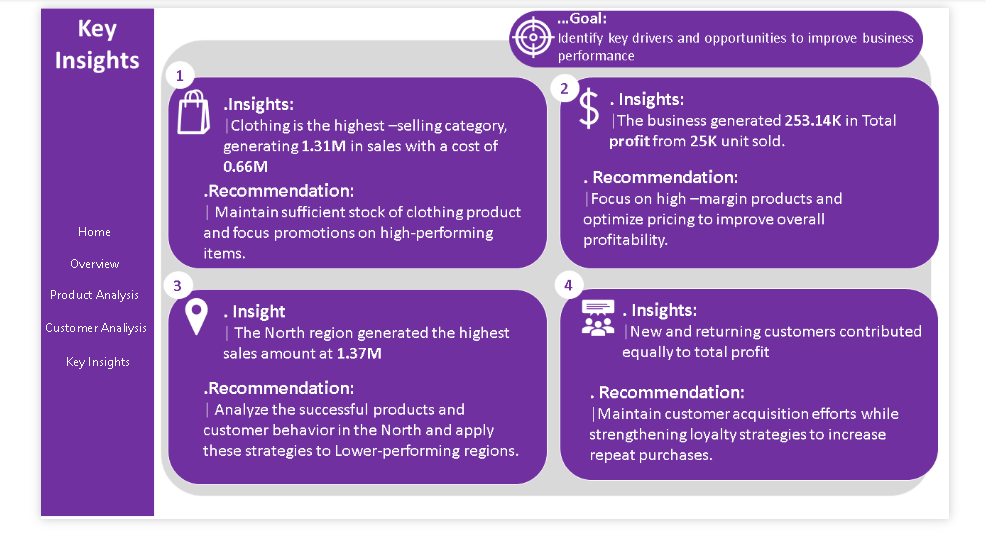

The page's visual inventory and layout, read from the dashboard file:
{"tool":"powerbi","page":{"name":"Key Insights","canvas":[1280,720],"ordinal":4},"visuals":[{"type":"actionButton","box":[17.5,296.2,117.5,37.5],"z":0},{"type":"actionButton","box":[17.5,341.2,116.9,38.1],"z":1000},{"type":"actionButton","box":[7.5,385,136.2,38.8],"z":2000},{"type":"actionButton","box":[0,431.2,155,38.8],"z":3000},{"type":"actionButton","box":[3.3,478.3,155,38.3],"z":4000}]}

Visuals, with their boxes on the page's 1280x720 design canvas (x1, y1, x2, y2). These are canvas units, not pixel positions in the 986x536 screenshot, which may show the page scaled, cropped or inside an application window:
actionButton: {"x1": 18, "y1": 296, "x2": 135, "y2": 334}
actionButton: {"x1": 18, "y1": 341, "x2": 134, "y2": 379}
actionButton: {"x1": 8, "y1": 385, "x2": 144, "y2": 424}
actionButton: {"x1": 0, "y1": 431, "x2": 155, "y2": 470}
actionButton: {"x1": 3, "y1": 478, "x2": 158, "y2": 517}
